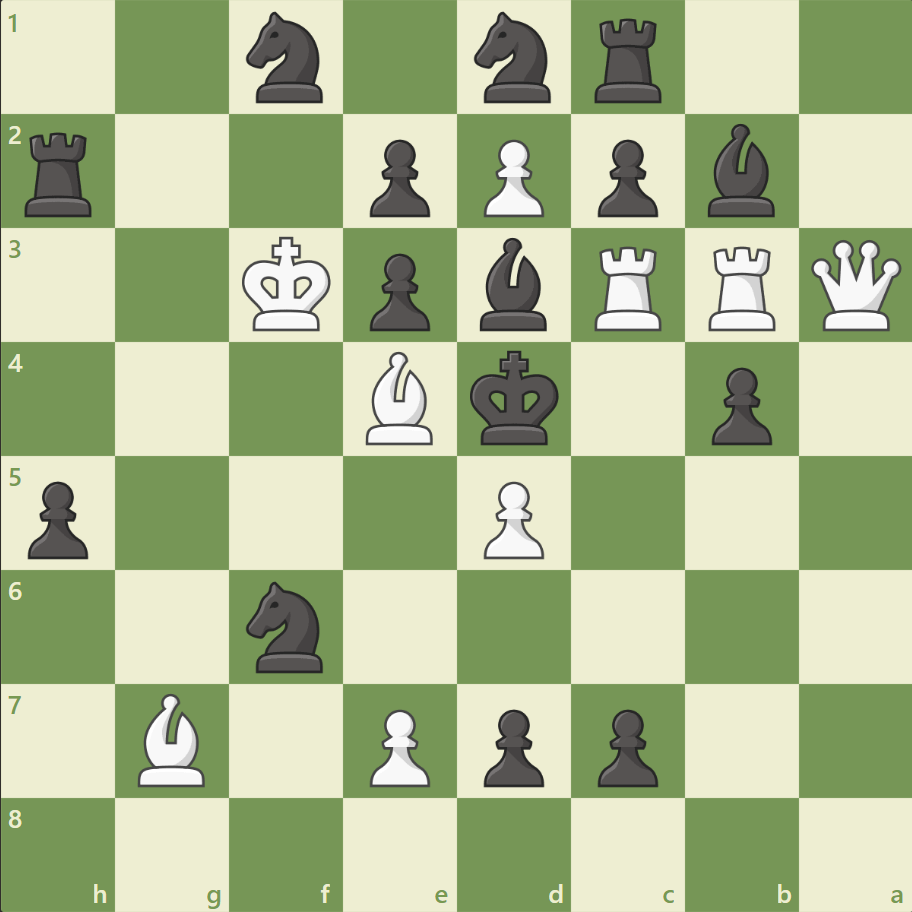B: (131, 687, 215, 790), (358, 347, 442, 449)
K: (238, 231, 338, 339)
P: (474, 473, 549, 564), (474, 132, 549, 223), (361, 700, 435, 791)
Q: (805, 236, 904, 335)
R: (700, 239, 783, 336), (587, 239, 670, 336)
b: (471, 233, 555, 336), (698, 120, 782, 222)
k: (465, 344, 565, 452)
n: (465, 7, 562, 110), (238, 7, 335, 110), (238, 575, 335, 677)
p: (474, 700, 549, 791), (20, 473, 95, 564), (701, 359, 776, 450), (588, 700, 662, 791), (361, 246, 435, 337), (588, 132, 662, 223), (361, 132, 435, 223)
r: (19, 125, 102, 222), (587, 12, 670, 109)
